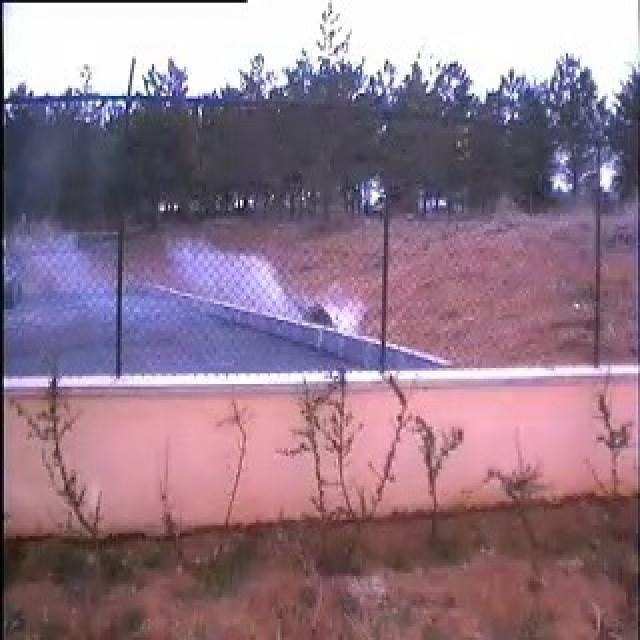smoke: (62, 219, 311, 370)
